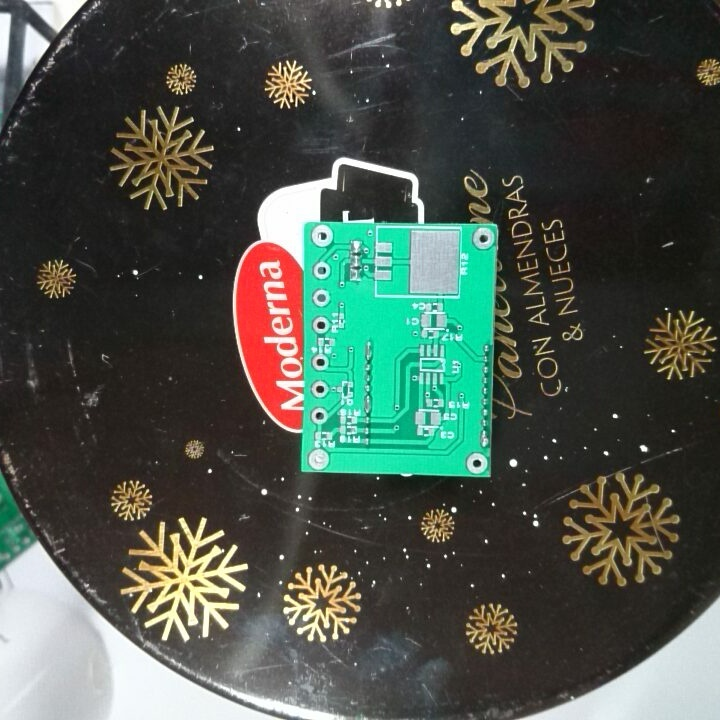F: (470, 226, 497, 252), (305, 446, 333, 471), (309, 223, 336, 248), (465, 452, 488, 475), (308, 404, 330, 428), (309, 314, 331, 335), (311, 286, 331, 309), (310, 352, 330, 374), (309, 378, 329, 400), (311, 260, 331, 281)
P: (362, 338, 378, 363), (362, 394, 374, 415), (478, 429, 491, 448)
